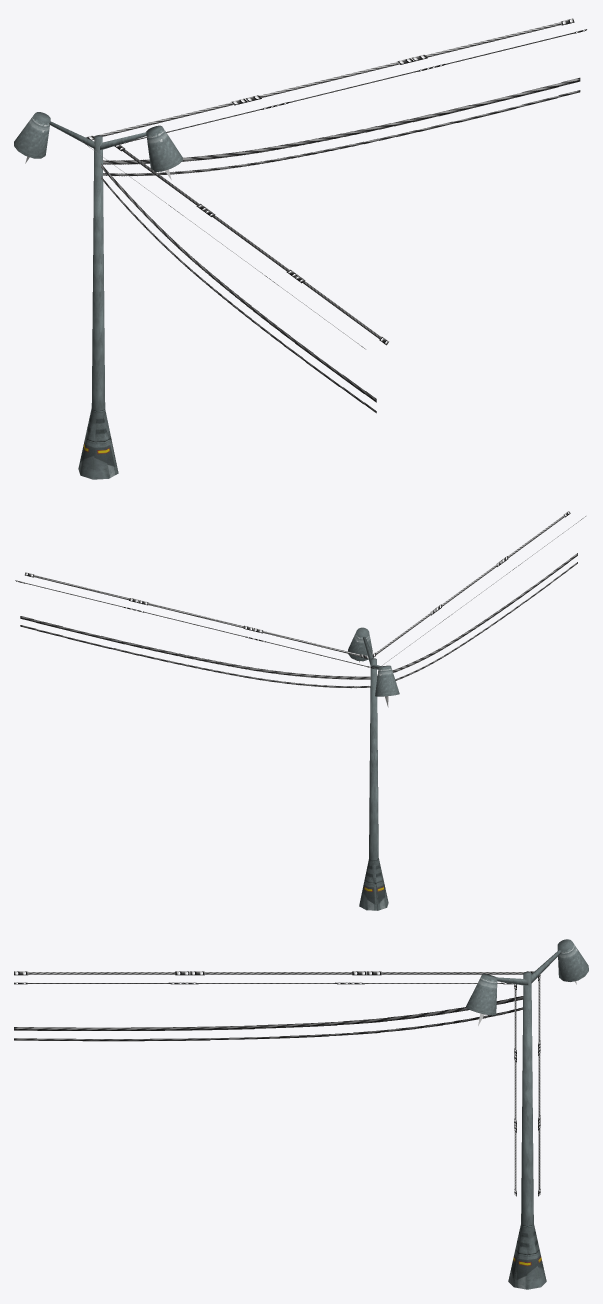
The model's file is pbtele02.FBX.
The picture shows the model from 3 angles, top to bottom: view 1: azimuth 30°, elevation 25°; view 2: azimuth 150°, elevation 25°; view 3: azimuth 270°, elevation 25°; orthographic projection. The views are drawn at different scales.
Visible parts, largest first — view 1: lines2__2, pbtele02; view 2: lines2__2, pbtele02; view 3: lines2__2, pbtele02.
Part boxes in pixels (x1,y1,x2,y2): lines2__2: (82, 18, 586, 413); pbtele02: (14, 112, 182, 479); lines2__2: (15, 511, 585, 688); pbtele02: (348, 627, 399, 910); lines2__2: (14, 971, 540, 1196); pbtele02: (466, 939, 588, 1289).
Size of what is drawn, in the model's own units: 17.92 by 17.92 by 11.13.
